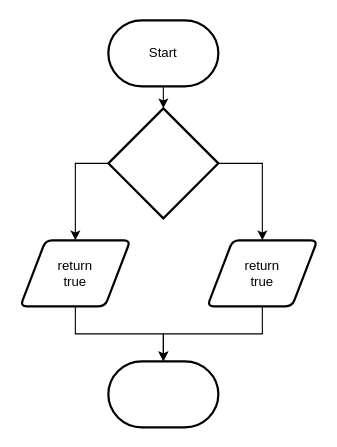
Image size: 337x447. Some labels were removed from this diagram. Here are the shapes that lost their labels. From the top down, the centre of each, then its label:
the point at 163,163: if (this.getSize === 0)
the point at 163,394: Stop
